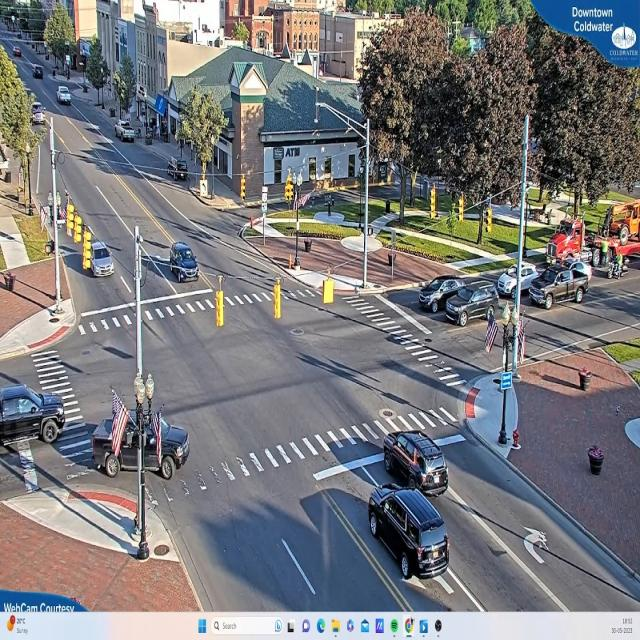car: (366, 483, 452, 582), (91, 404, 189, 478), (1, 371, 67, 446), (384, 431, 449, 495), (526, 261, 591, 309), (418, 276, 491, 312), (443, 286, 497, 326), (164, 242, 202, 290), (85, 235, 115, 278), (497, 264, 532, 300), (118, 120, 138, 143), (58, 89, 71, 105), (32, 66, 43, 78)
